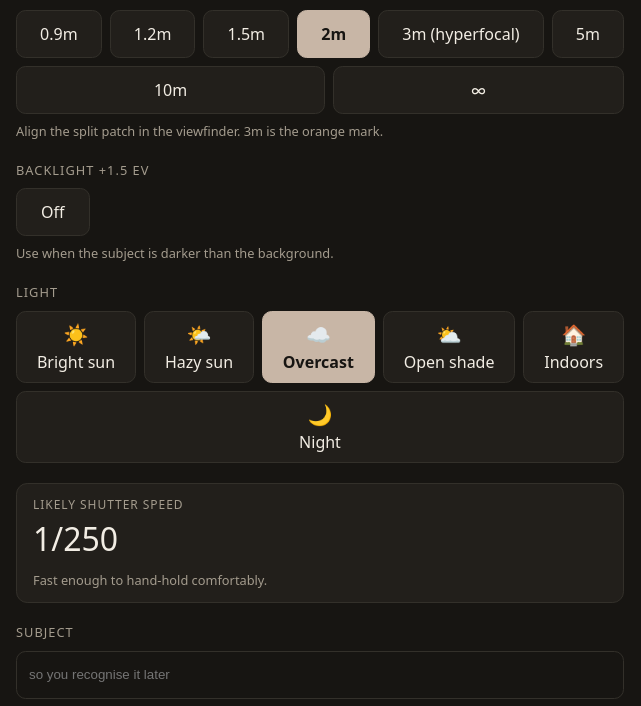
it: LogShot › warns about camera shake at slow estimated speeds
(page scrolled)
Step 1. Click the button "🏠 Indoors" → (574, 346), box [523,310,624,382]
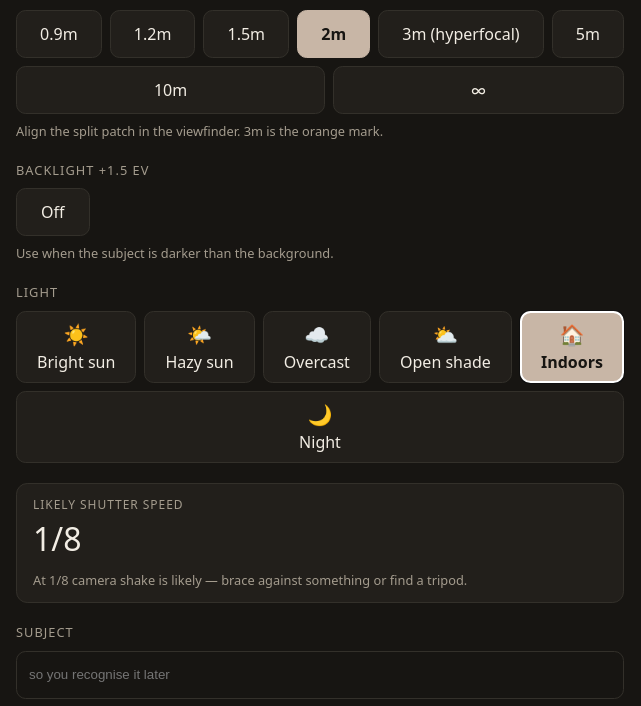
Result: the text "shake" is shown at [33,571,467,589]
